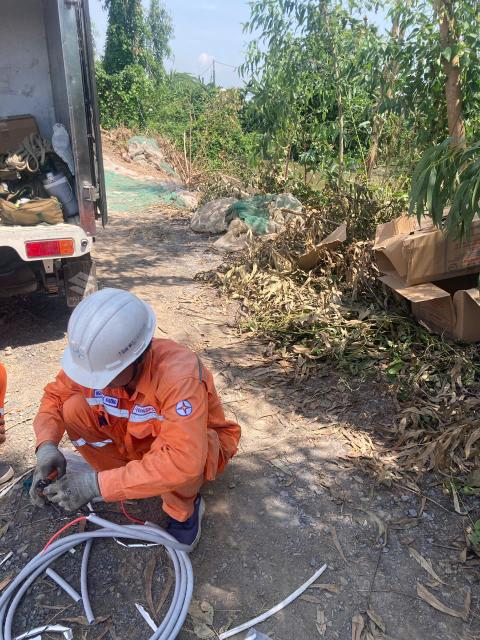gloves: (16, 435, 72, 503), (45, 471, 121, 520)
helmet: (47, 284, 172, 397)
shoes: (152, 492, 220, 558)
